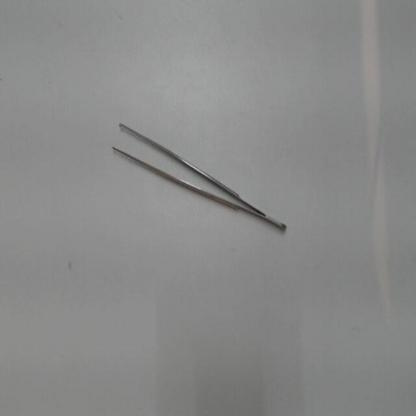Gillies Toothed Dissector: (108, 105, 291, 238)
